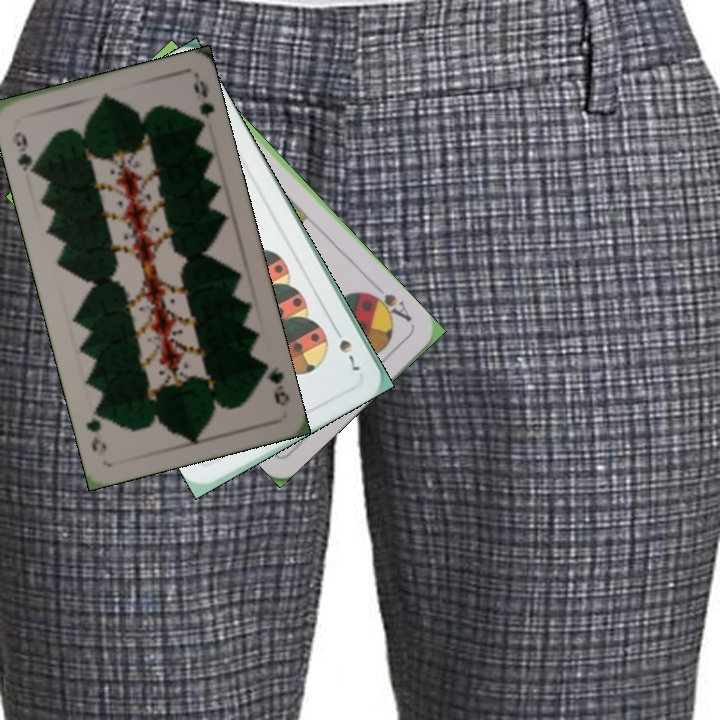G9: (255, 357, 293, 409), (8, 128, 41, 178)
S7: (329, 321, 363, 374)
SA: (363, 280, 415, 325)
